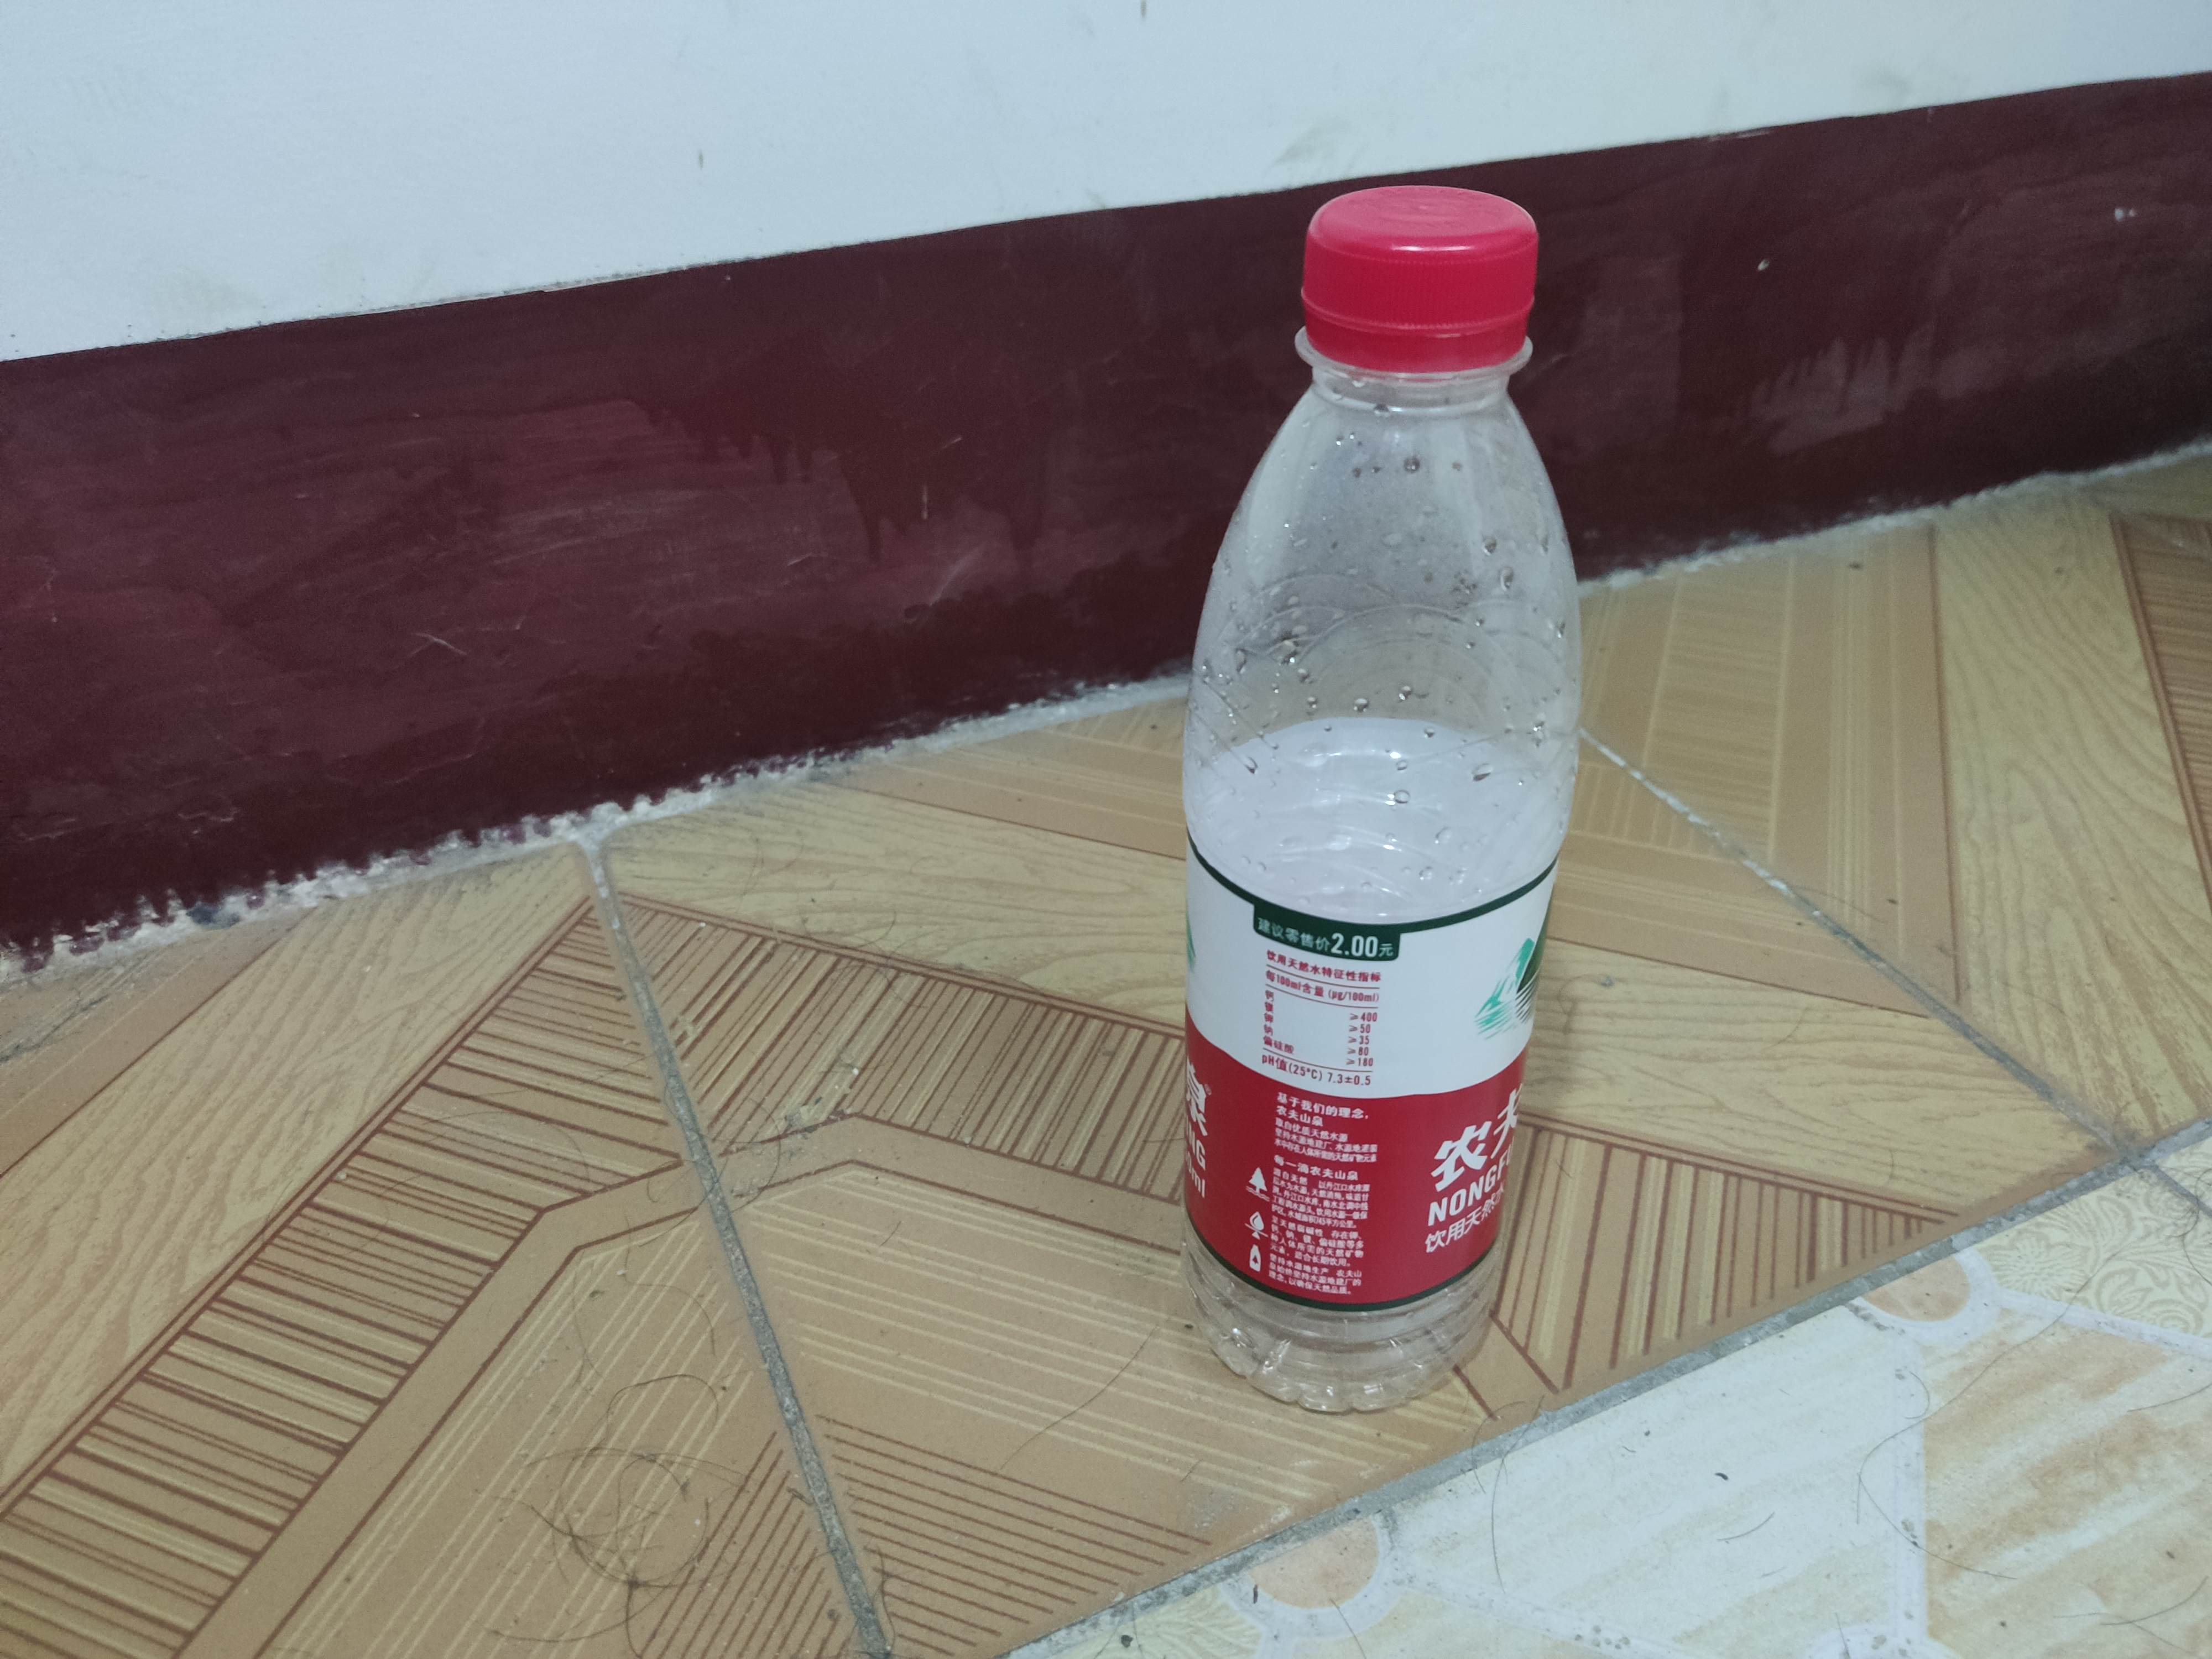Plastic Bottle: (1174, 179, 1588, 1429)
